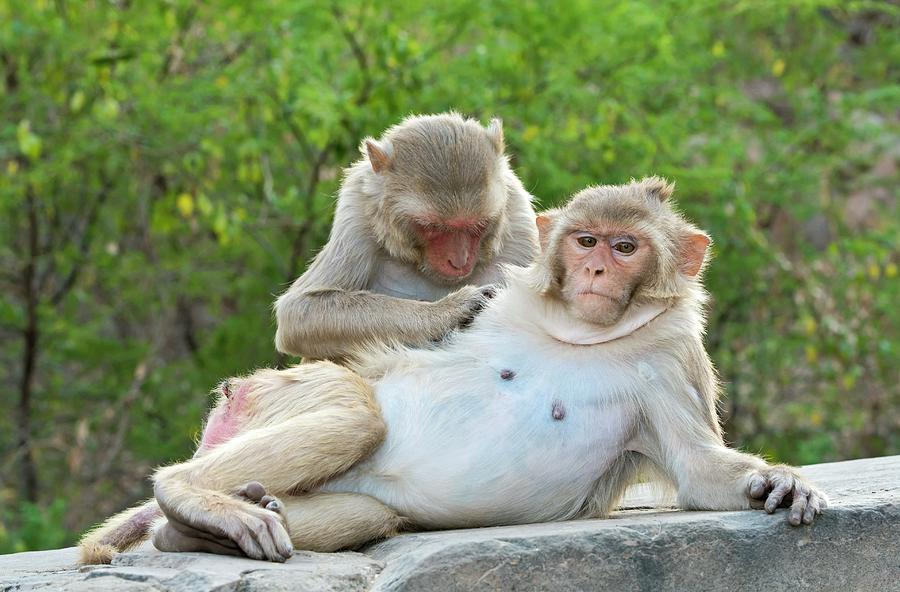monkey: (52, 170, 835, 562), (264, 103, 545, 356)
